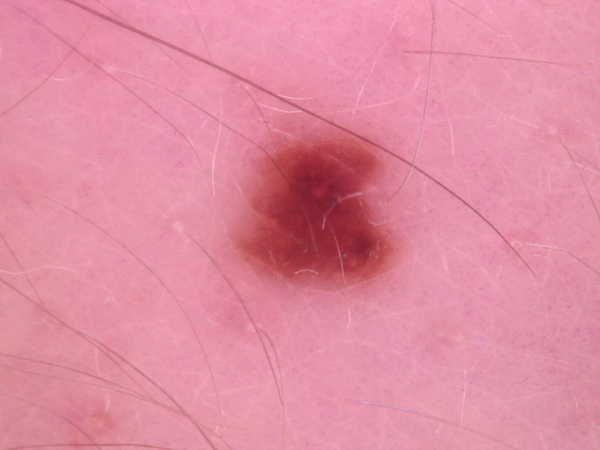Detected Lesion: (222, 129, 414, 295)
